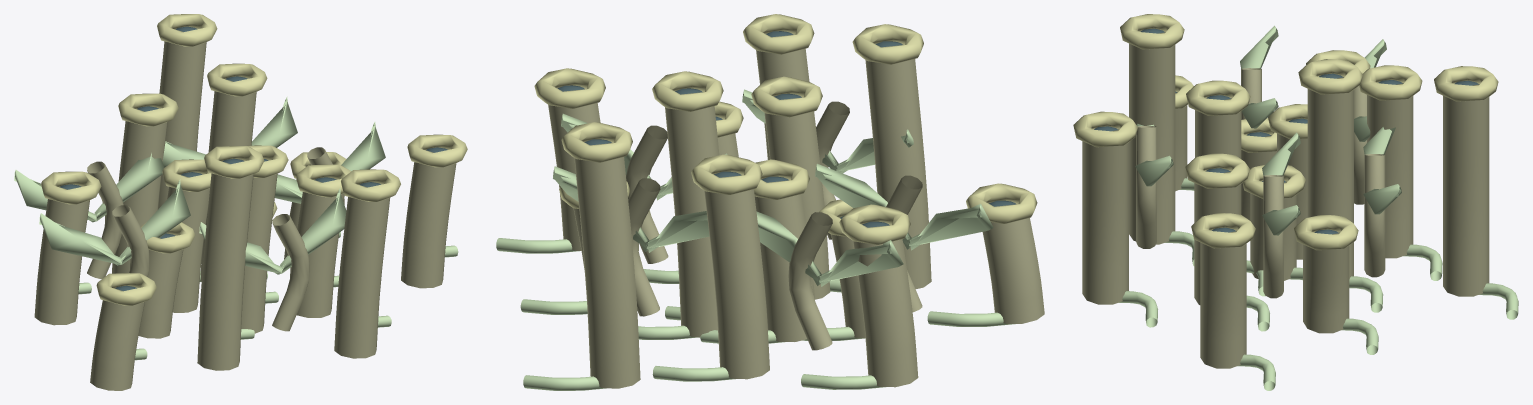
File: bio_thermal_colony_22_far.glb
The picture shows the model from 3 angles, left to right: view 1: azimuth 30°, elevation 25°; view 2: azimuth 150°, elevation 25°; view 3: azimuth 270°, elevation 25°; orthographic projection. The views are drawn at different scales.
Visible parts, largest first — view 1: Chimney biofilm.007, Chimney biofilm.010, Chimney biofilm.013, Chimney biofilm.009, Chimney biofilm.011, Chimney biofilm.012, Secondary fan lobe.008, Chimney biofilm.002, Chimney biofilm.006, Chimney biofilm.005, Chimney biofilm.004, Chimney biofilm.001 (+21 smaller); view 2: Chimney biofilm.011, Chimney biofilm.006, Chimney biofilm.007, Chimney biofilm.003, Chimney biofilm.009, Chimney biofilm.012, Chimney biofilm.001, Chimney biofilm.002, Secondary fan lobe.008, Branching support.001, Secondary fan lobe.002, Open vent rim.013 (+28 smaller); view 3: Chimney biofilm.011, Chimney biofilm.010, Chimney biofilm.007, Chimney biofilm.003, Chimney biofilm.013, Chimney biofilm.006, Chimney biofilm.008, Branching support.003, Branching support, Branching support.002, Chimney biofilm.002, Open vent rim.002 (+32 smaller).
Part boxes in pixels (bbox=[...]): Chimney biofilm.007: bbox=[197, 173, 253, 370]; Chimney biofilm.010: bbox=[334, 197, 389, 358]; Chimney biofilm.013: bbox=[401, 162, 456, 288]; Chimney biofilm.009: bbox=[34, 199, 89, 325]; Chimney biofilm.011: bbox=[158, 41, 206, 208]; Chimney biofilm.012: bbox=[90, 300, 144, 390]; Secondary fan lobe.008: bbox=[39, 179, 190, 265]; Chimney biofilm.002: bbox=[241, 173, 277, 333]; Chimney biofilm.006: bbox=[112, 121, 167, 273]; Chimney biofilm.005: bbox=[297, 192, 344, 317]; Chimney biofilm.004: bbox=[138, 249, 183, 338]; Chimney biofilm.001: bbox=[167, 186, 209, 312]; Chimney biofilm.011: bbox=[574, 157, 640, 388]; Chimney biofilm.006: bbox=[704, 189, 769, 379]; Chimney biofilm.007: bbox=[865, 59, 931, 289]; Chimney biofilm.003: bbox=[665, 91, 719, 337]; Chimney biofilm.009: bbox=[853, 239, 918, 387]; Chimney biofilm.012: bbox=[982, 218, 1044, 324]; Chimney biofilm.001: bbox=[755, 194, 814, 341]; Chimney biofilm.002: bbox=[764, 96, 830, 299]; Secondary fan lobe.008: bbox=[815, 163, 993, 250]; Branching support.001: bbox=[788, 212, 832, 350]; Secondary fan lobe.002: bbox=[756, 211, 903, 286]; Open vent rim.013: bbox=[534, 68, 605, 108]; Chimney biofilm.011: bbox=[1443, 84, 1489, 296]; Chimney biofilm.010: bbox=[1082, 129, 1128, 304]; Chimney biofilm.007: bbox=[1129, 32, 1175, 244]; Chimney biofilm.003: bbox=[1307, 77, 1353, 279]; Chimney biofilm.013: bbox=[1200, 230, 1246, 368]; Chimney biofilm.006: bbox=[1367, 83, 1413, 258]; Chimney biofilm.008: bbox=[1303, 232, 1349, 333]; Branching support.003: bbox=[1364, 154, 1385, 277]; Branching support: bbox=[1263, 175, 1283, 298]; Branching support.002: bbox=[1136, 126, 1156, 248]; Chimney biofilm.002: bbox=[1195, 98, 1241, 214]; Open vent rim.002: bbox=[1186, 80, 1250, 115].
Size of the model in its own units: 2.2 by 1.07 by 1.92.
